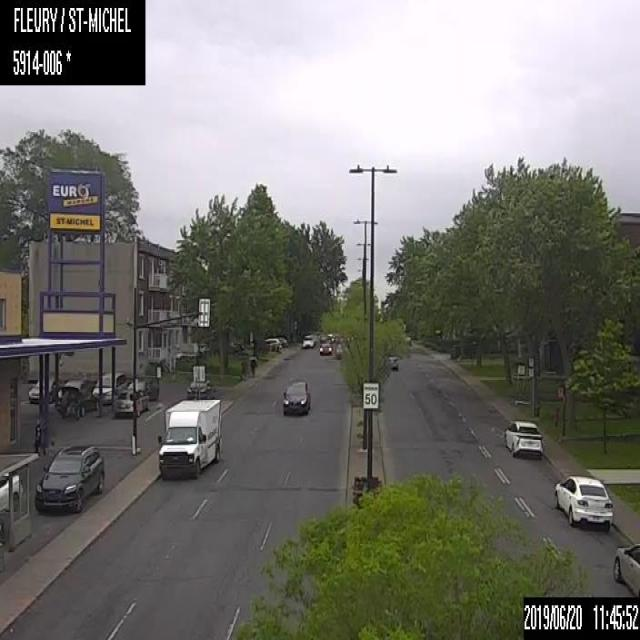pedestrian: (33, 417, 43, 452), (249, 357, 256, 375)
vehicle: (156, 396, 221, 480), (34, 443, 105, 517), (552, 475, 612, 532), (57, 378, 99, 420), (610, 541, 639, 596), (502, 419, 541, 456), (92, 368, 127, 405), (0, 471, 24, 514), (281, 380, 309, 415), (115, 387, 146, 418), (187, 378, 211, 400), (316, 340, 333, 355), (302, 332, 315, 348)
